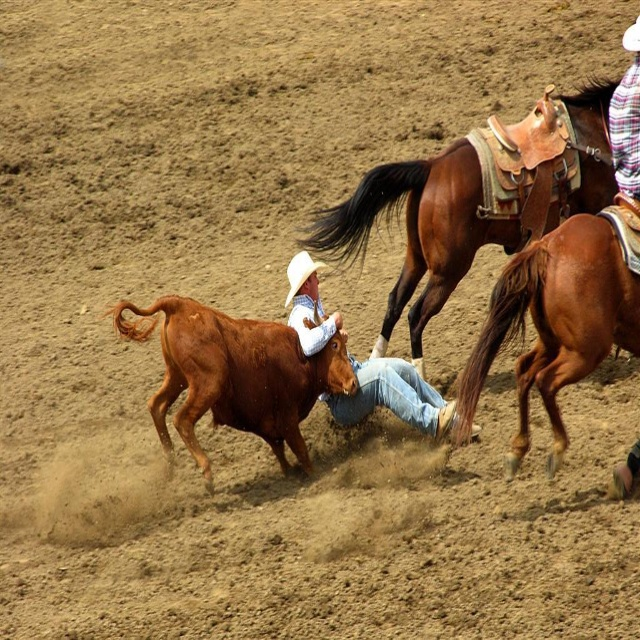Bull: (99, 293, 358, 491)
